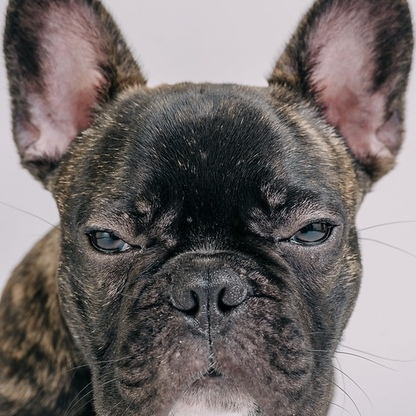bulldog: (7, 5, 402, 416)
